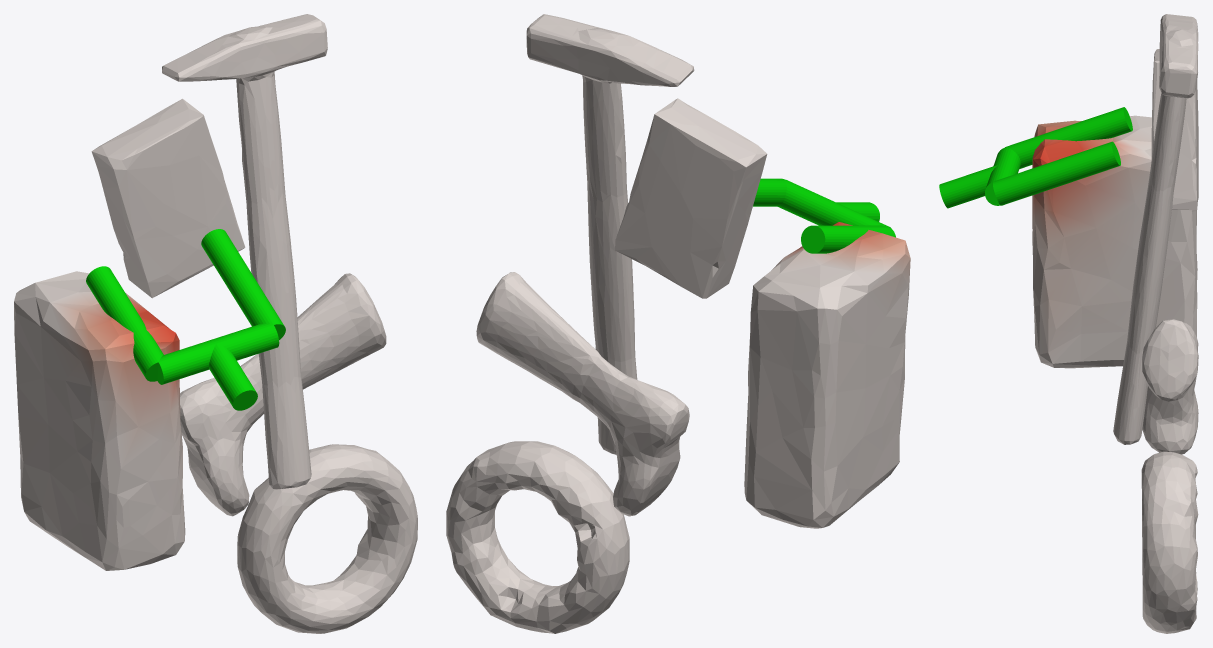
The model's file is round_000_trial_000.obj.
The picture shows the model from 3 angles, left to right: view 1: azimuth 30°, elevation 25°; view 2: azimuth 150°, elevation 25°; view 3: azimuth 270°, elevation 25°; orthographic projection. The views are drawn at different scales.
Parts seen in each view (by area): view 1: geometry_0, geometry_1; view 2: geometry_0, geometry_1; view 3: geometry_0, geometry_1.
Part boxes in pixels (x1,y1,x2,y2): geometry_0: (14, 14, 417, 633); geometry_1: (86, 229, 285, 410); geometry_0: (446, 14, 910, 633); geometry_1: (753, 178, 895, 253); geometry_0: (1032, 14, 1198, 633); geometry_1: (939, 107, 1132, 208).
Bounding box in the file's own units: 0.1624 × 0.2414 × 0.1014.
